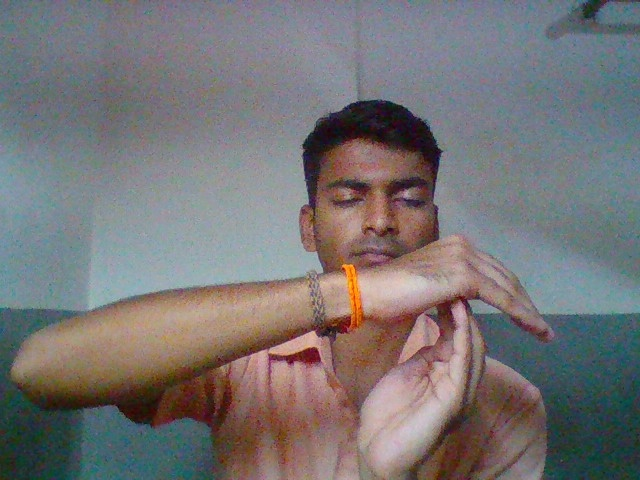J: (350, 223, 562, 473)
